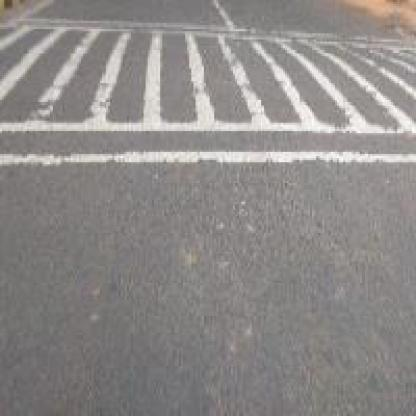Speed Bump: (0, 8, 414, 168)
